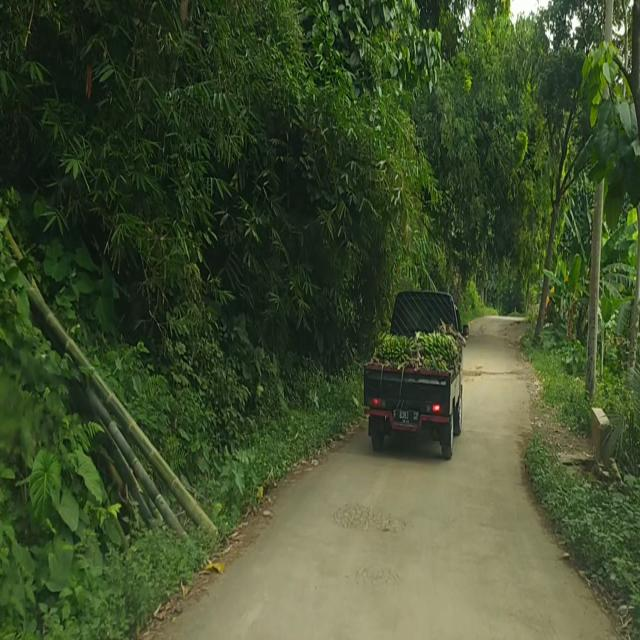Drain Hole: (331, 497, 407, 538)
